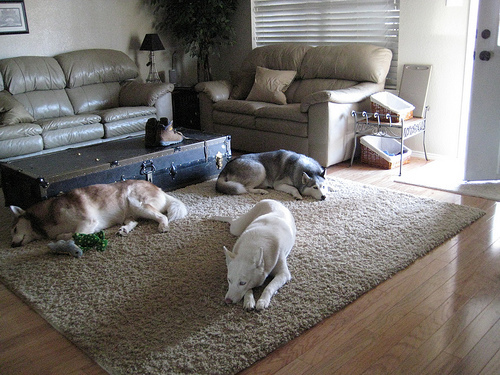dog: (8, 178, 190, 258), (224, 198, 295, 310), (215, 150, 331, 202)
